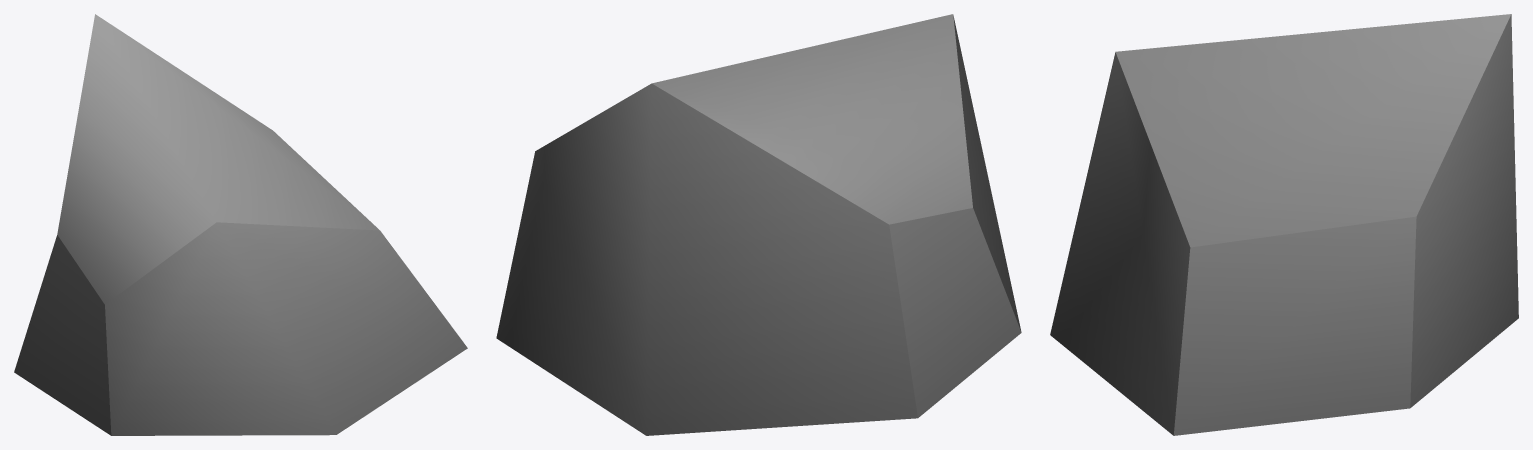
Rendered from Rock002.glb.
3 views of the same model, side by side, from view 1: azimuth 30°, elevation 25°; view 2: azimuth 150°, elevation 25°; view 3: azimuth 270°, elevation 25° (orthographic). The views are drawn at different scales.
Visible parts, largest first — view 1: Rock002; view 2: Rock002; view 3: Rock002.
Part boxes in pixels (bbox=[...]): Rock002: bbox=[14, 14, 467, 435]; Rock002: bbox=[496, 14, 1021, 435]; Rock002: bbox=[1050, 14, 1518, 435].
Bounding box in the file's own units: 303 × 219 × 306.
Materials: 1 (1 with a texture image).
